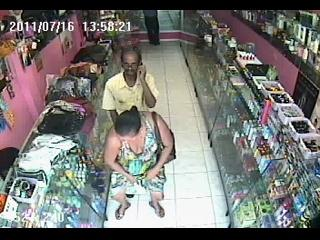Normal: (102, 48, 160, 125), (142, 10, 160, 46)
shoplifting: (103, 107, 176, 220)
